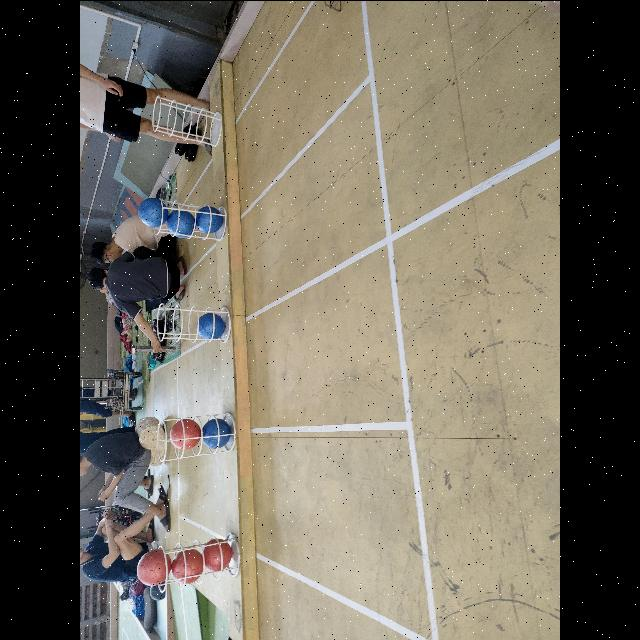B: (169, 418, 201, 448), (202, 418, 230, 448), (138, 197, 166, 226), (197, 311, 225, 339), (168, 209, 194, 237), (196, 206, 222, 232)
R: (136, 548, 172, 586), (172, 547, 204, 583), (204, 538, 232, 570)
